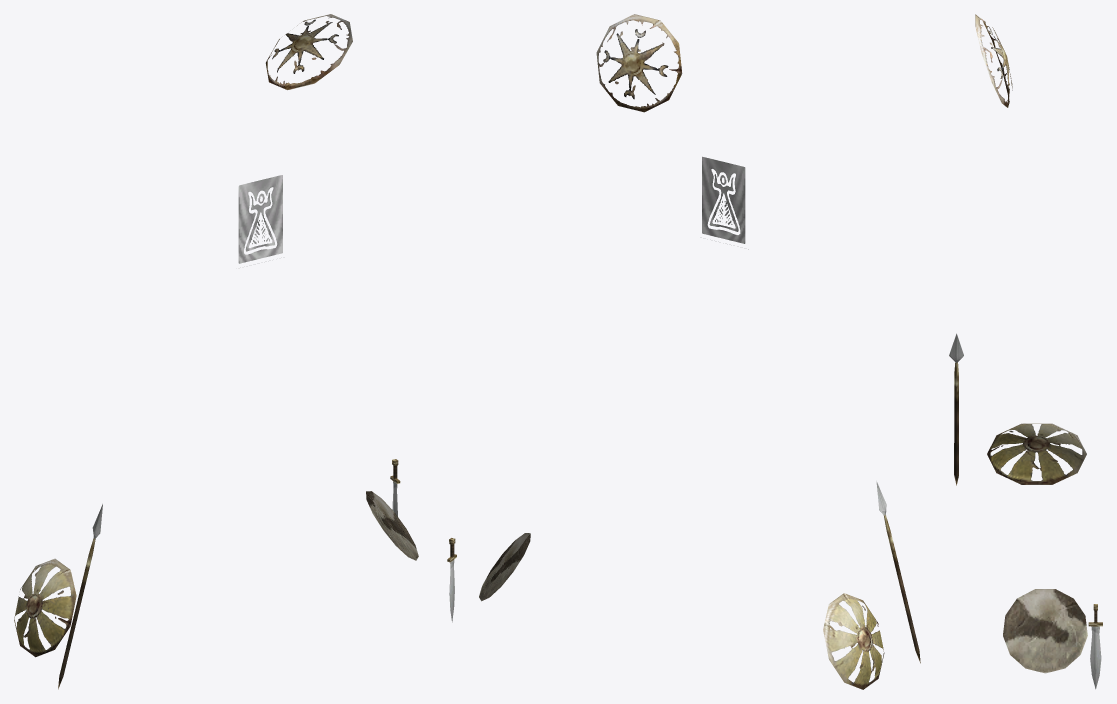
The model's file is kart_st_a.dae.
The picture shows the model from 3 angles, left to right: view 1: azimuth 30°, elevation 25°; view 2: azimuth 150°, elevation 25°; view 3: azimuth 270°, elevation 25°; orthographic projection.
Parts seen in each view (by area): view 1: Object06-Pivot; view 2: Object06-Pivot; view 3: Object06-Pivot.
Part boxes in pixels (x1=…): Object06-Pivot: x1=14, y1=14, x2=418, y2=689; Object06-Pivot: x1=447, y1=14, x2=920, y2=689; Object06-Pivot: x1=949, y1=14, x2=1102, y2=689.
Size of the model in its own units: 9.36 by 3.07 by 13.27.
